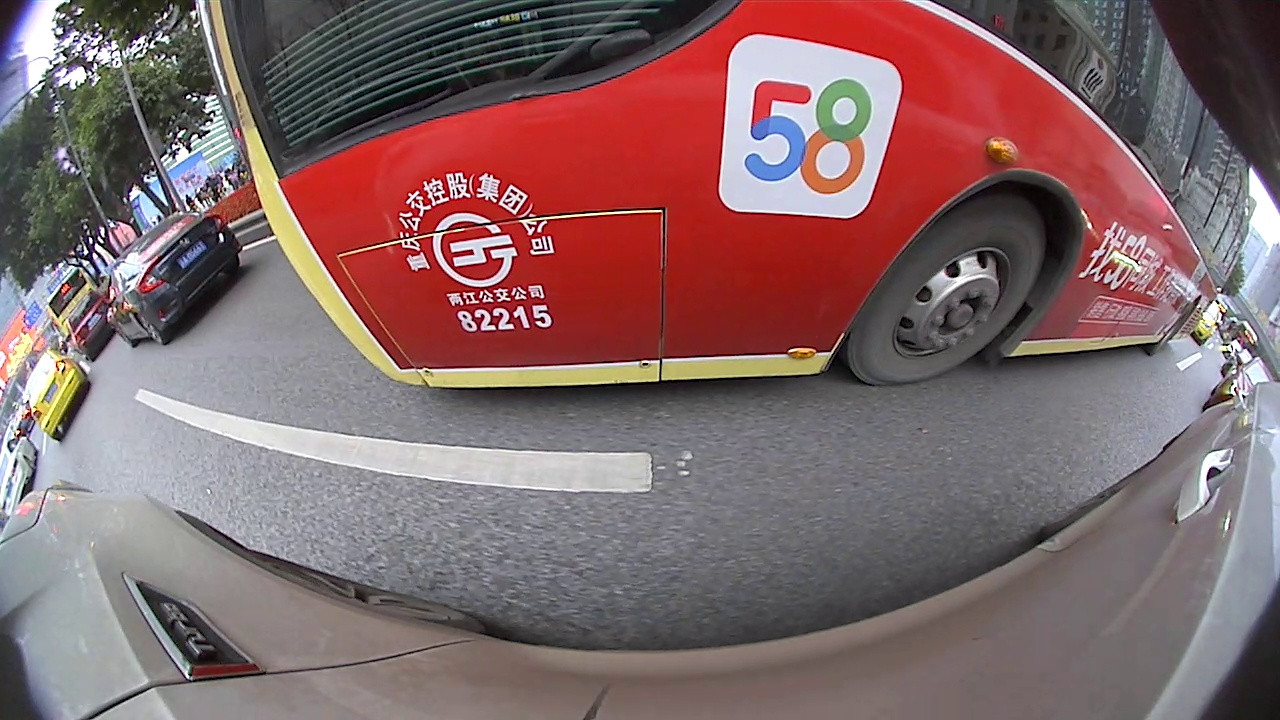bus: (183, 2, 1257, 394)
car: (106, 208, 245, 353), (20, 347, 93, 442), (66, 281, 120, 365)
front: (844, 188, 1049, 390)
rear: (1141, 290, 1207, 357), (129, 309, 171, 346)
